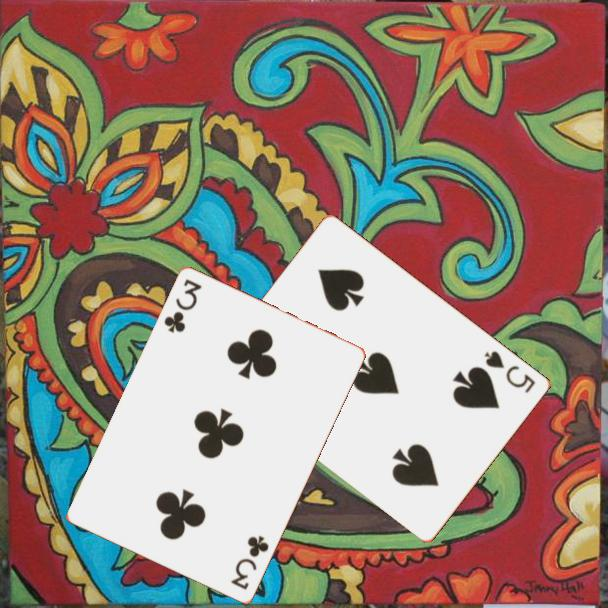c03: (227, 532, 272, 593), (160, 276, 205, 336)
s05: (481, 347, 539, 396)
